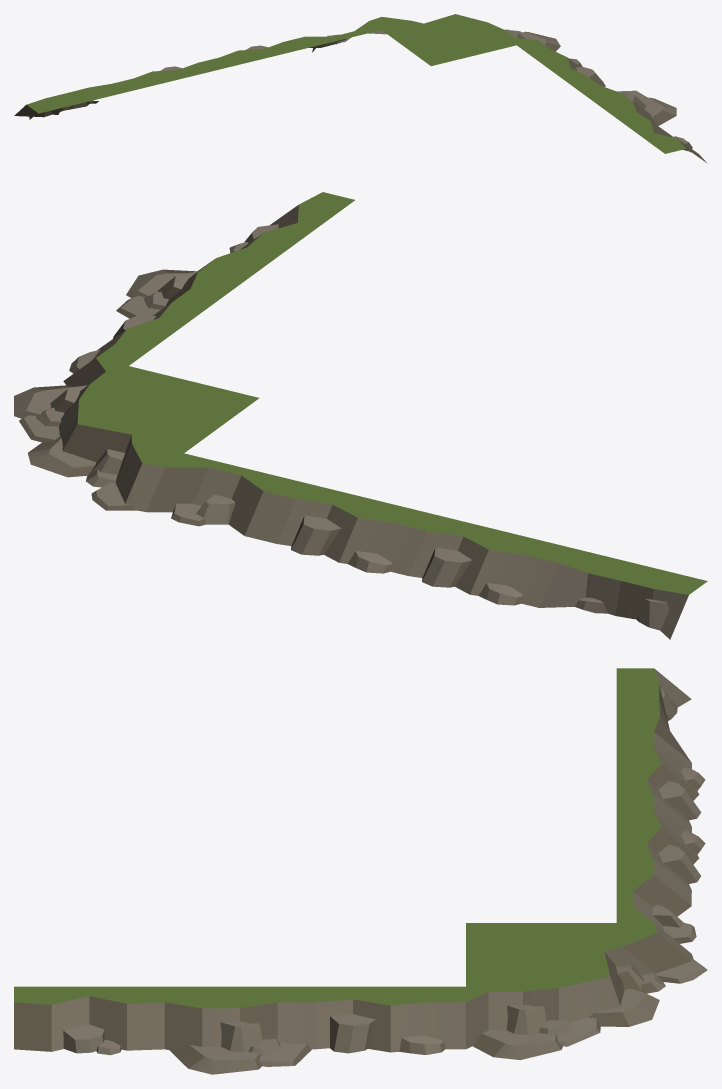
File: Rocks.fbx
The picture shows the model from 3 angles, top to bottom: view 1: azimuth 30°, elevation 25°; view 2: azimuth 150°, elevation 25°; view 3: azimuth 270°, elevation 25°; orthographic projection. The views are drawn at different scales.
Visible parts, largest first — view 1: New Game Object; view 2: New Game Object; view 3: New Game Object.
Part boxes in pixels (x1,y1,x2,y2): New Game Object: (14,14,707,163); New Game Object: (14,192,707,639); New Game Object: (14,668,707,1074).
Size of the model in its own units: 58.96 by 2.44 by 46.07.
